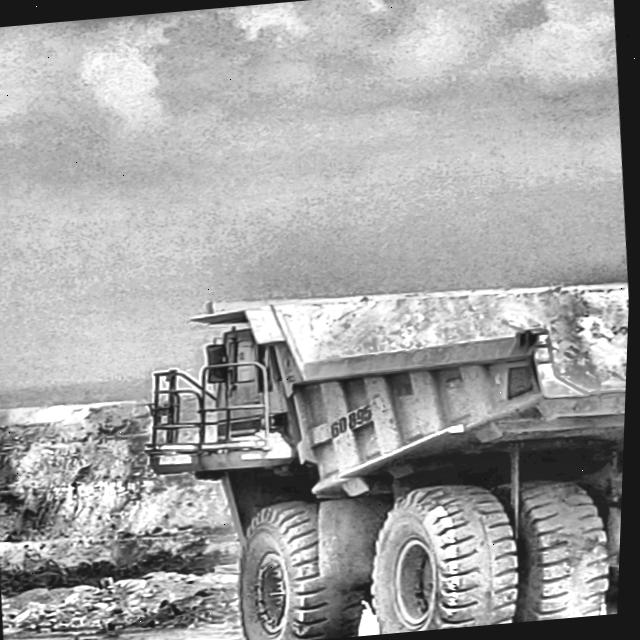dump_truck: (153, 282, 631, 640)
